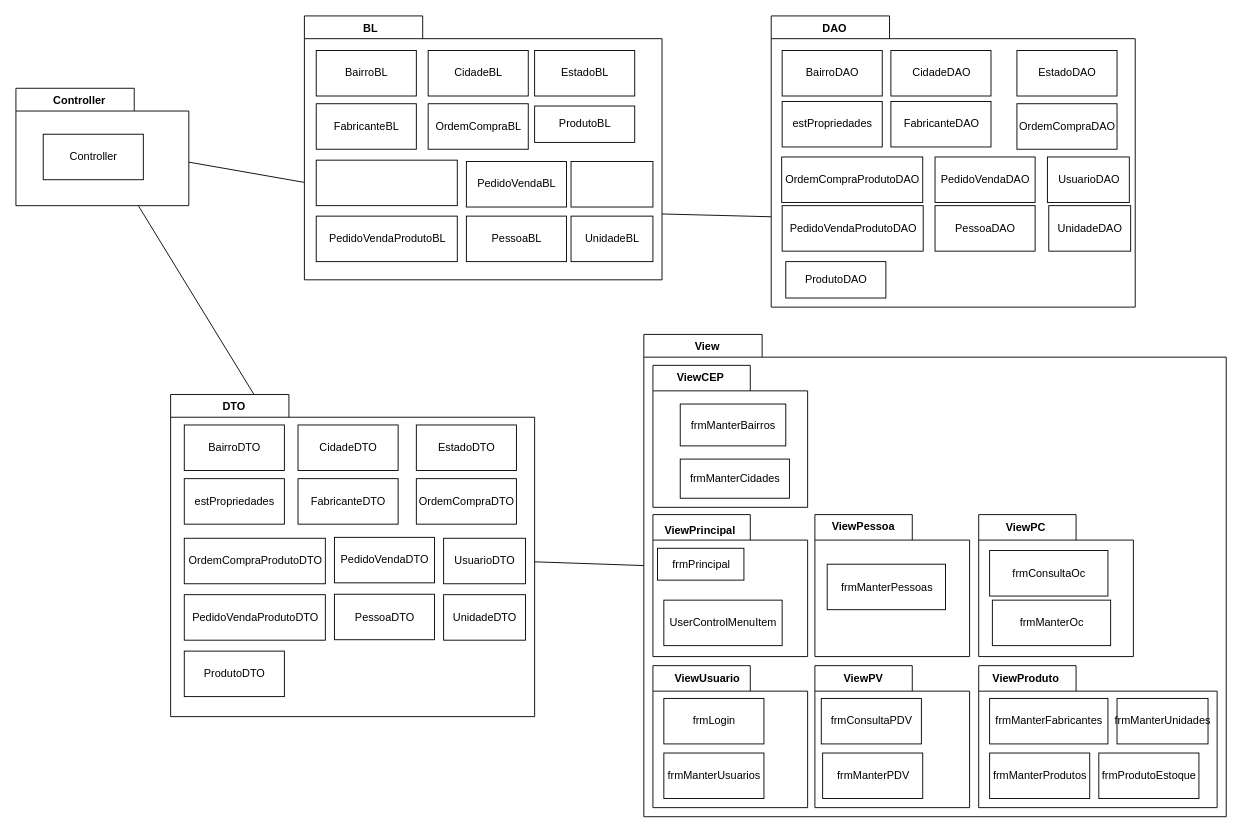
This 1242x833 diagram has some shape labels left out. Here are the shapes that lost their labels. From the top down, the box of each, then its label:
(315, 159, 457, 206): OrdemCompraProdutoBL
(570, 161, 653, 207): UsuarioBL
